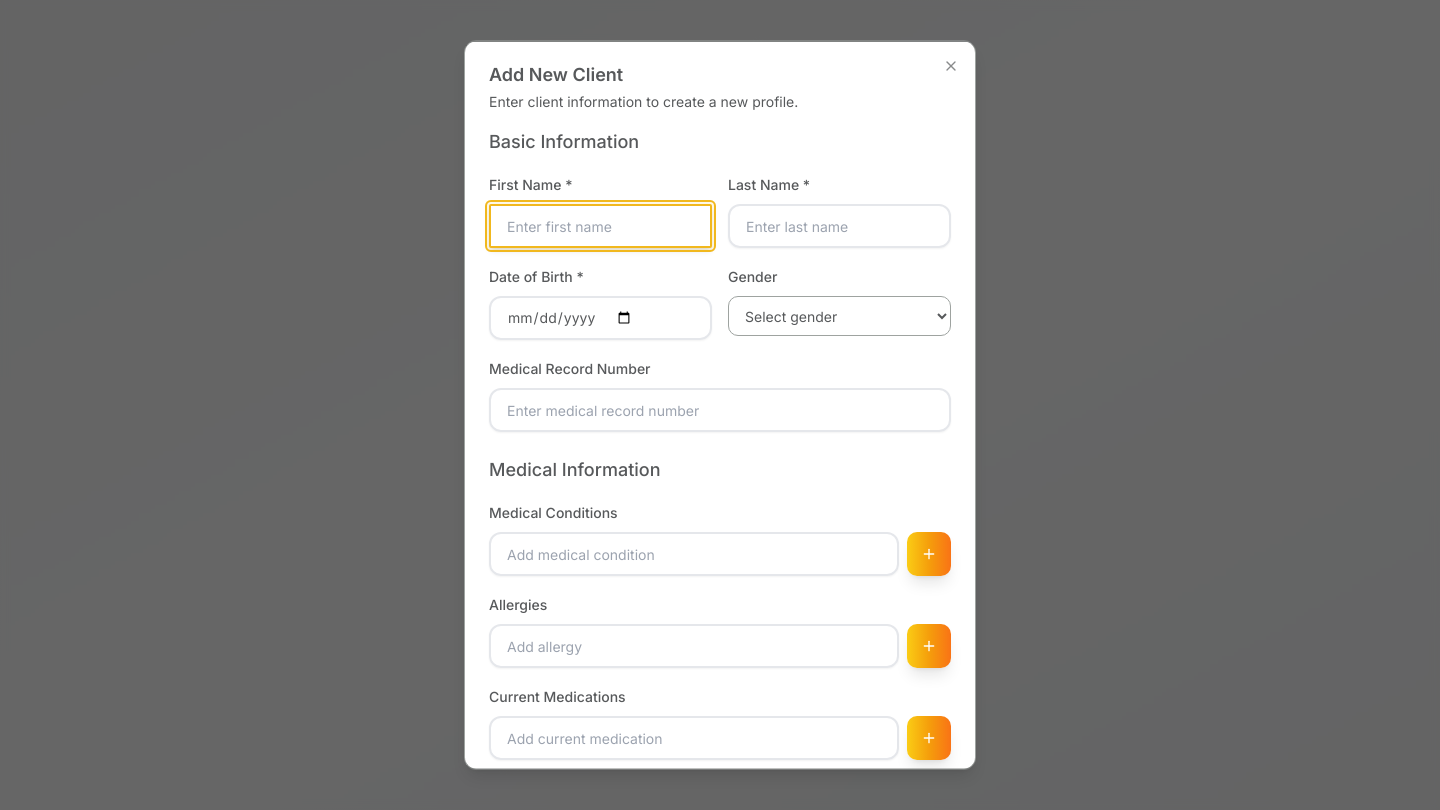
it: ClientDialog › allows adding medical conditions
This screenshot has width=1440, height=810.
Add a medical condition
Step 1. Type "Diabetes" into the field with placeholder "Add medical condition" → [694, 554], box [489,532,899,576]
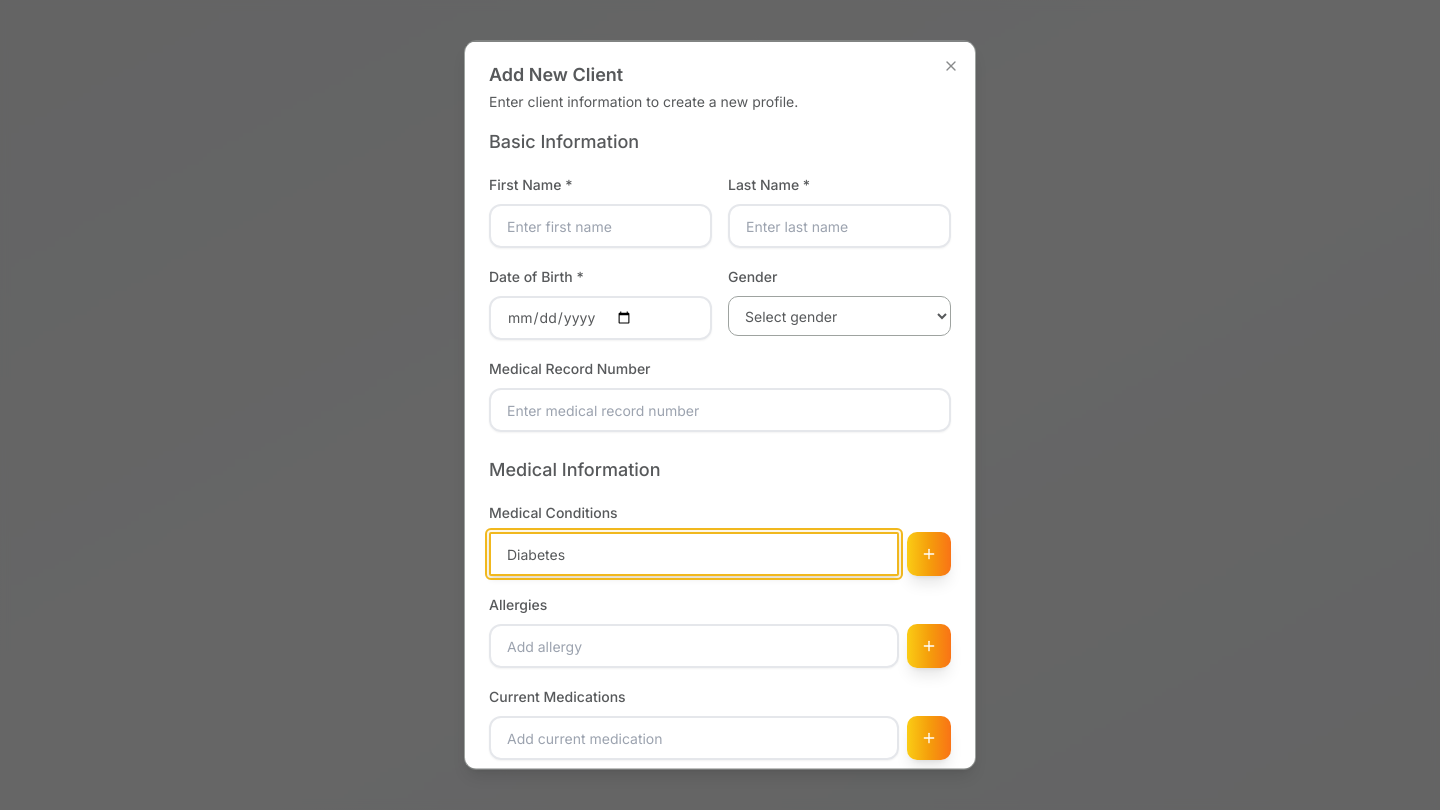
Step 2. Press Enter
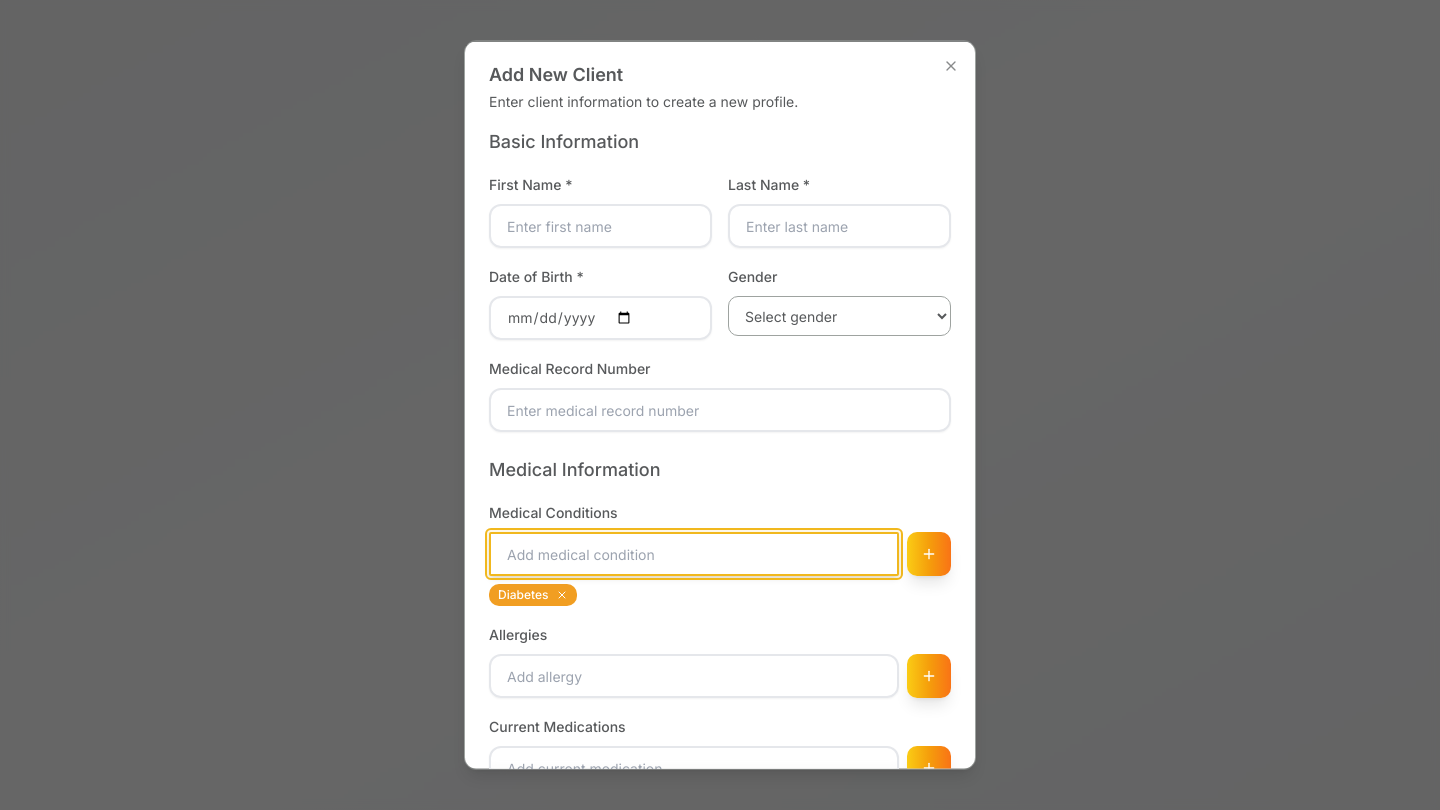
Now the text "Diabetes" is shown, box [489,584,578,606]
